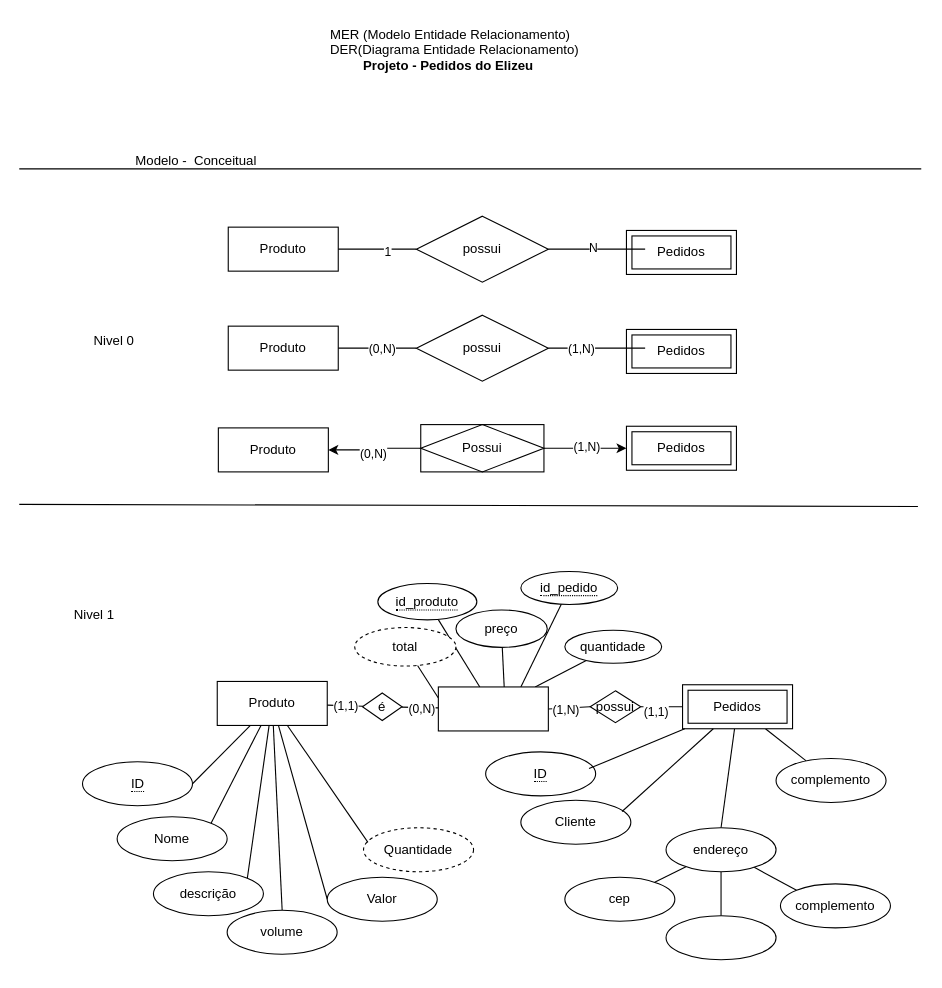
Some shapes in this 942 by 988 pixel diagram are drawn without their labels. Each missing label, with the box of its shape:
item: (437, 686, 548, 731)
numero: (665, 915, 776, 960)
